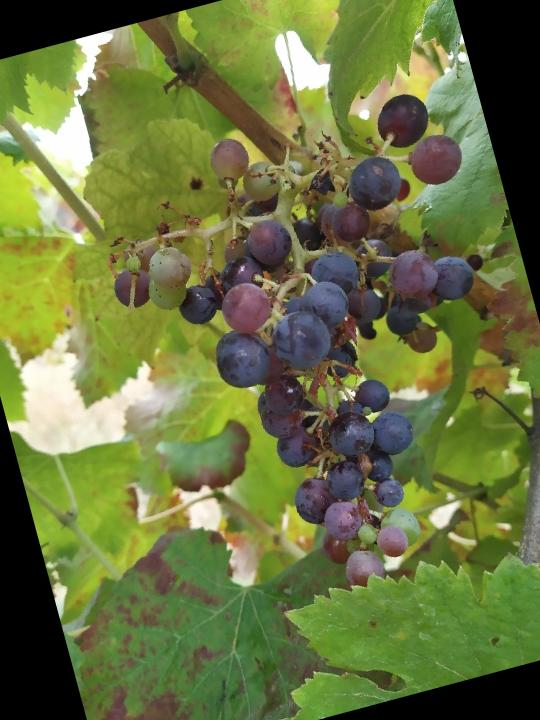grape: (79, 79, 540, 628)
